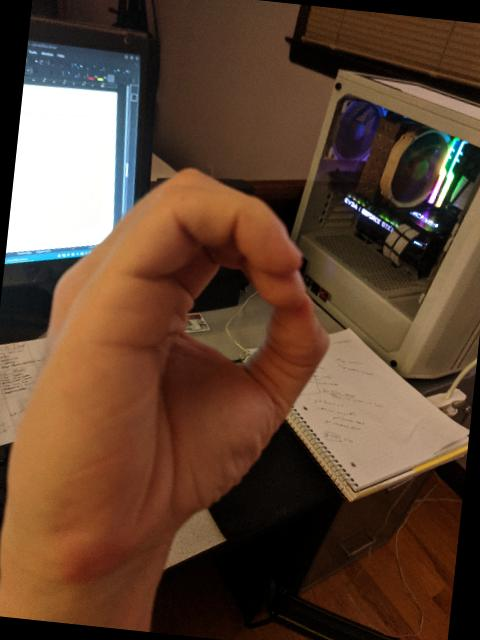O: (0, 146, 351, 617)
